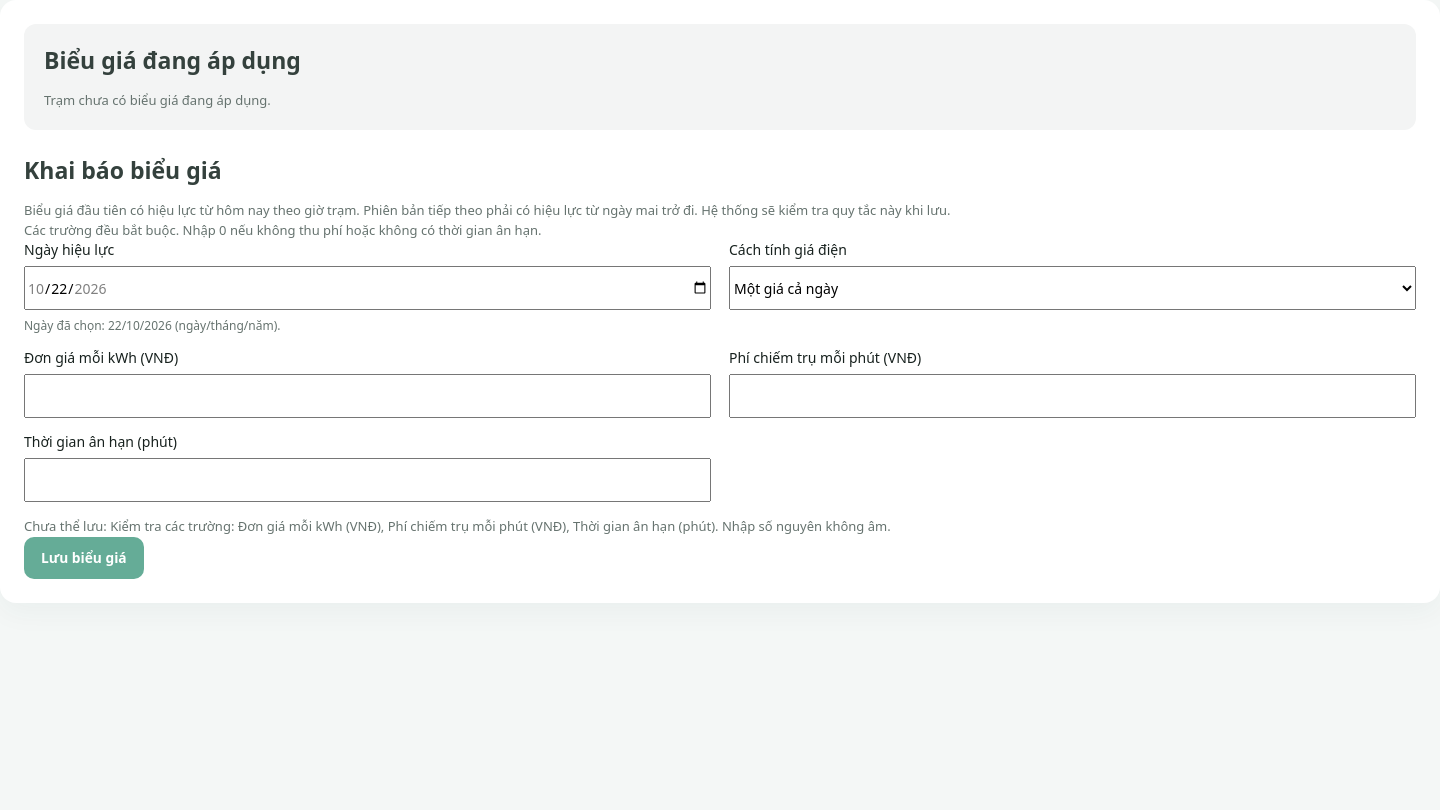
Test case: T-62 - Luồng lưu biểu giá › chặn ân hạn vượt giới hạn tại ô nhập
Type "3500" into the field labelled "Đơn giá mỗi kWh (VNĐ)" at (368, 396), box [24,374,711,418]
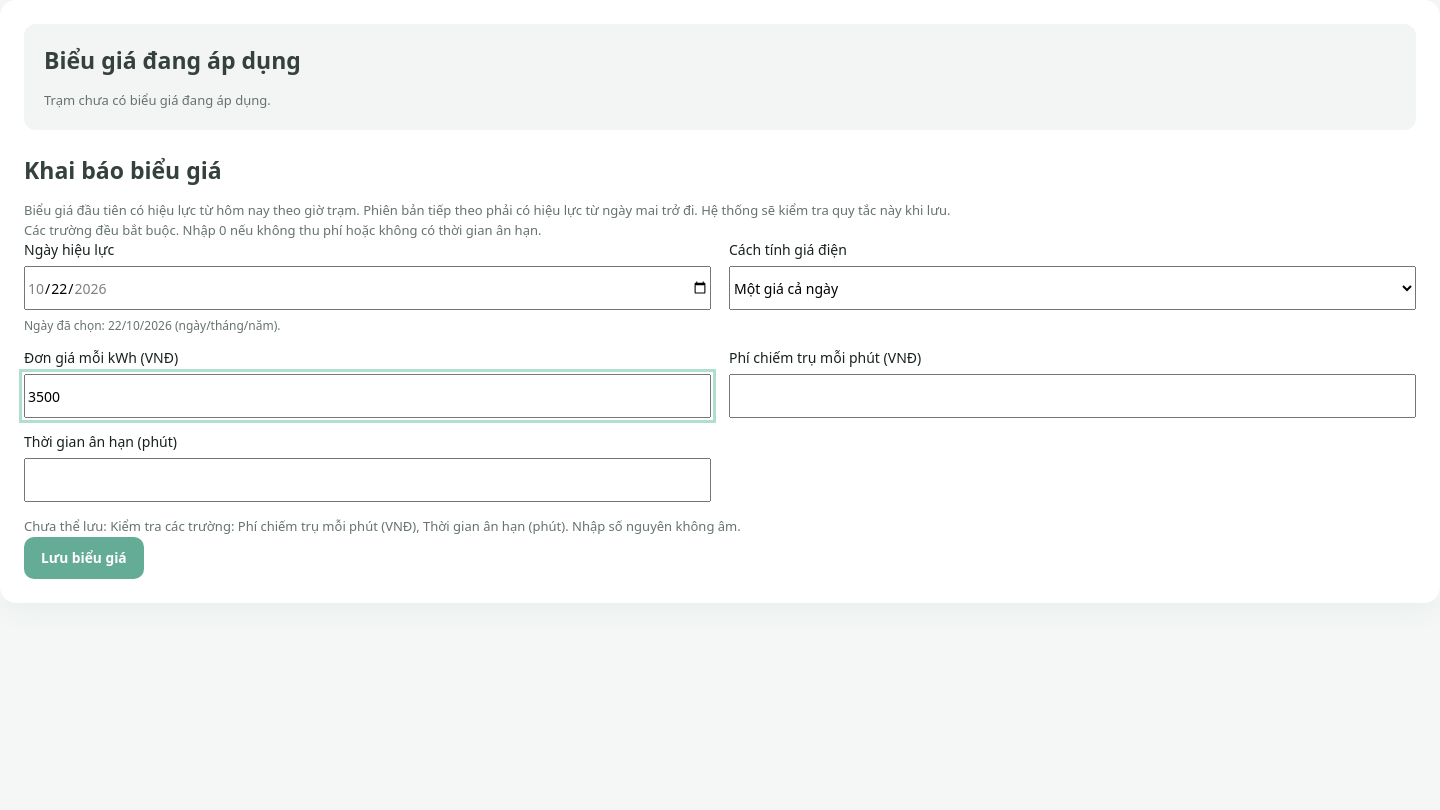
Type "500" into the field labelled "Phí chiếm trụ mỗi phút (VNĐ)" at (1072, 396), box [729,374,1416,418]
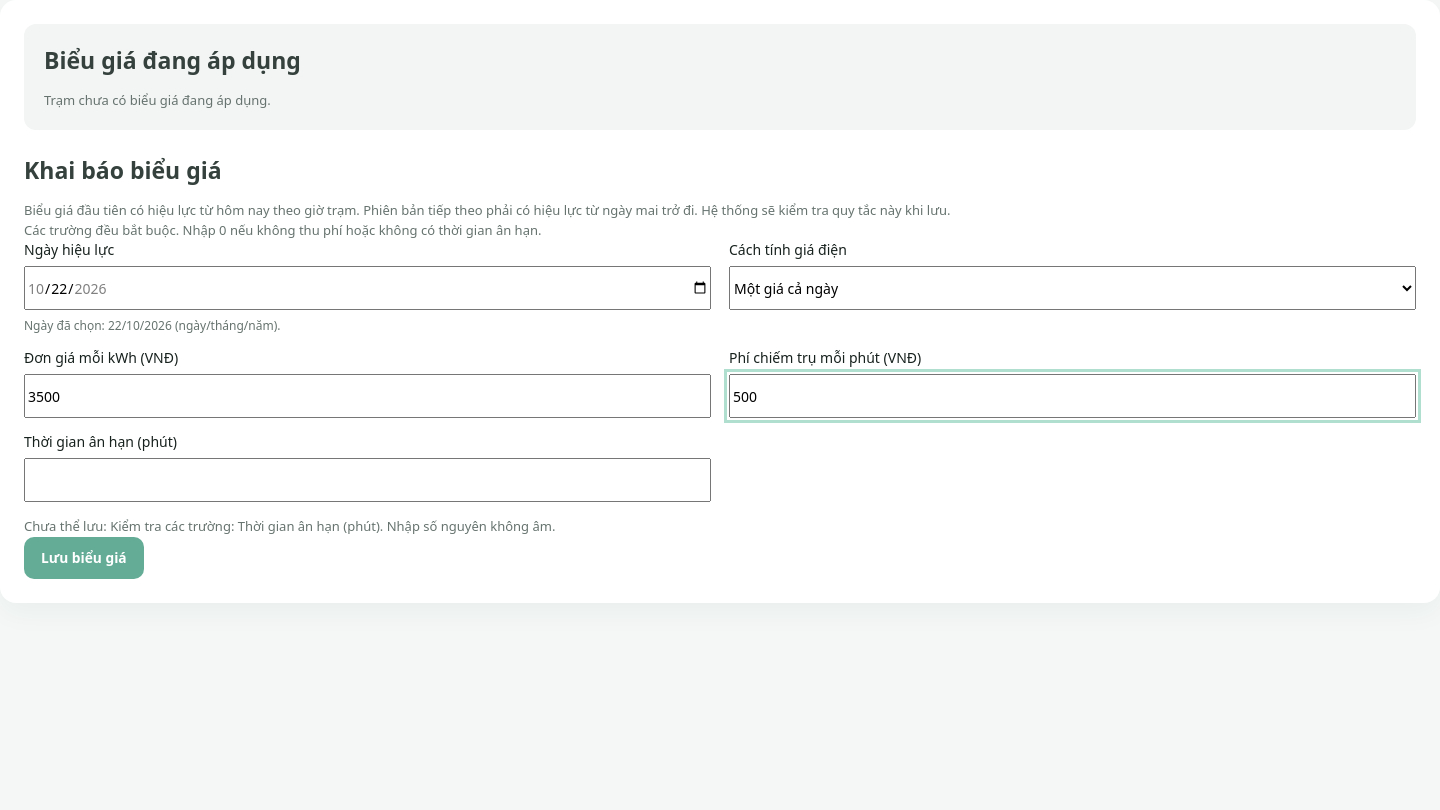
Type "5" into the field labelled "Thời gian ân hạn (phút)" at (368, 480), box [24,458,711,502]
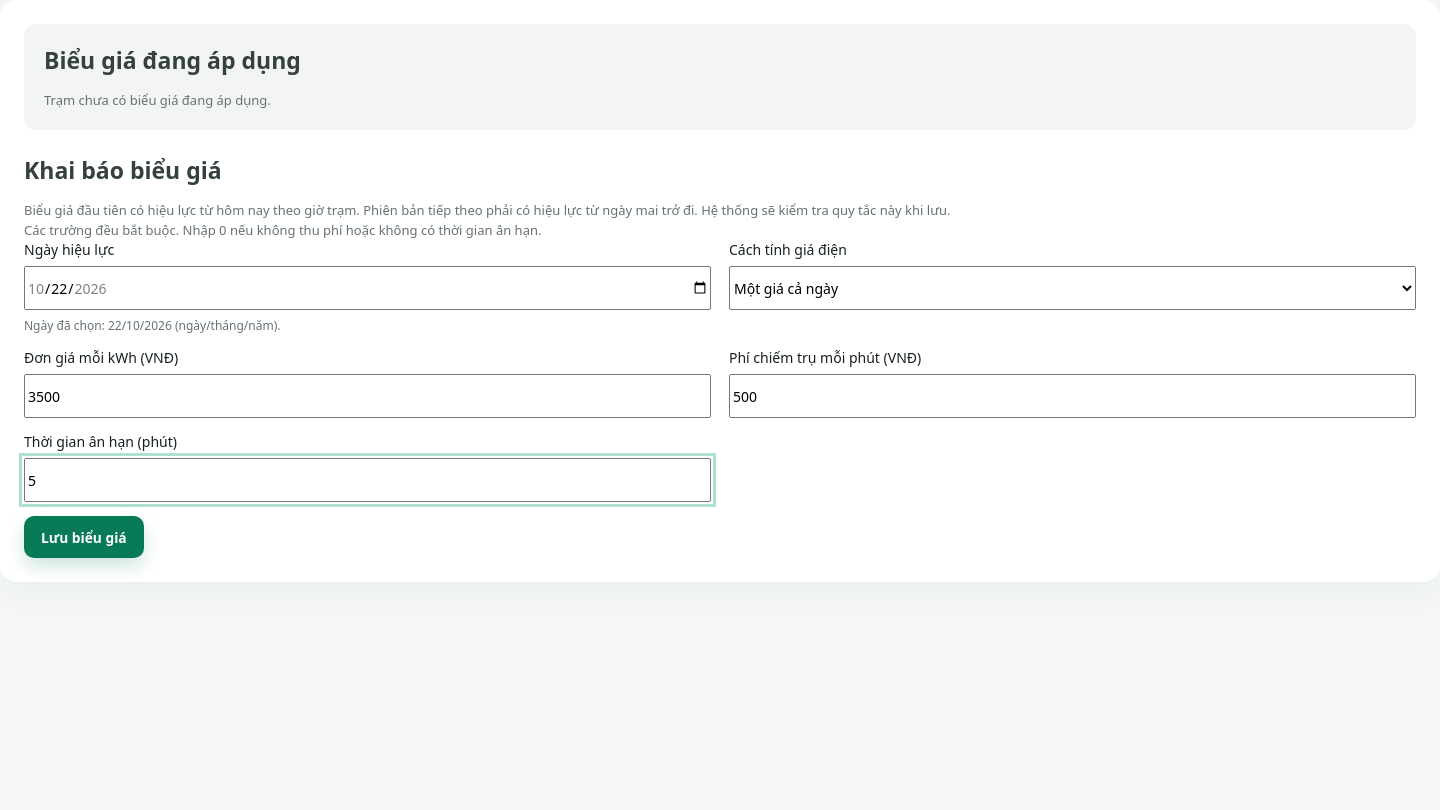
Replace the text in the field labelled "Thời gian ân hạn (phút)" with "2147483648" at (368, 480), box [24,458,711,502]
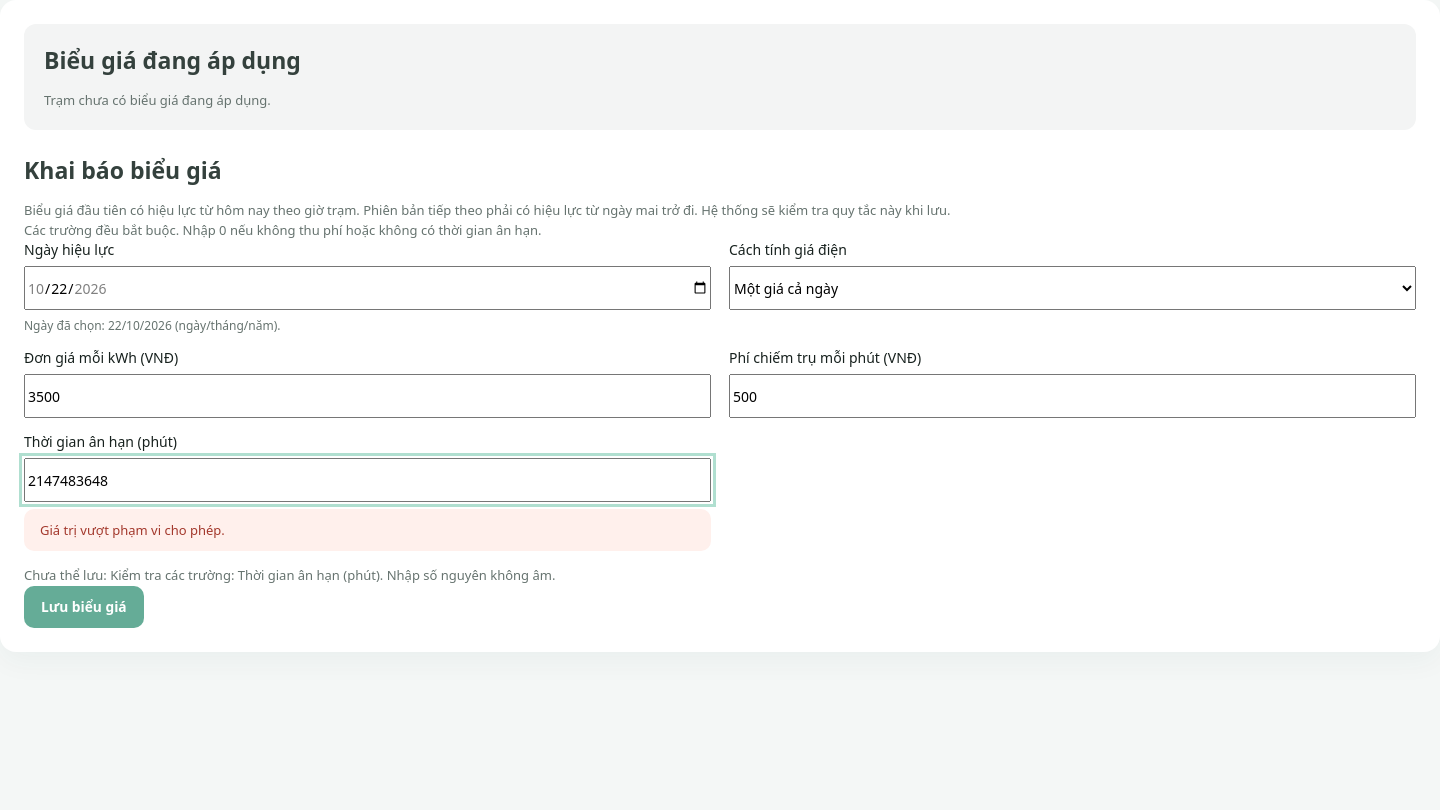
Expected: the button "Lưu biểu giá" is disabled, [24,586,144,628]
Expected: the text "Giá trị vượt phạm vi cho phép." is shown, [24,509,711,551]
